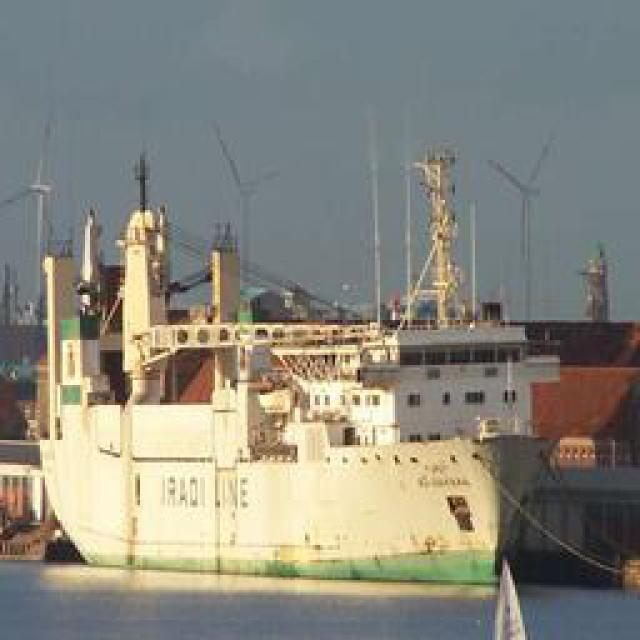Ship: (31, 127, 549, 605)
